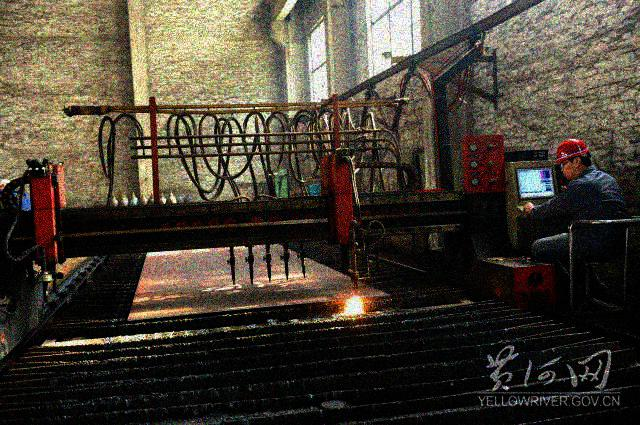helmet: (556, 138, 593, 179)
